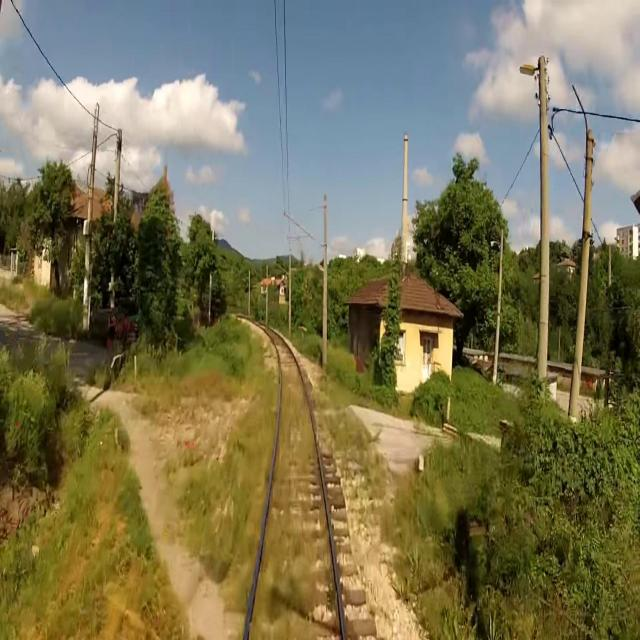rail-track: (248, 328, 341, 639)
